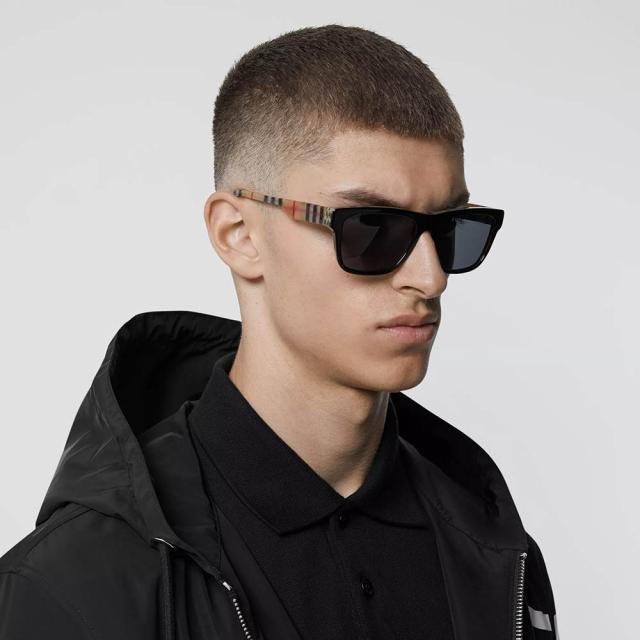Glasses: (241, 181, 510, 279)
